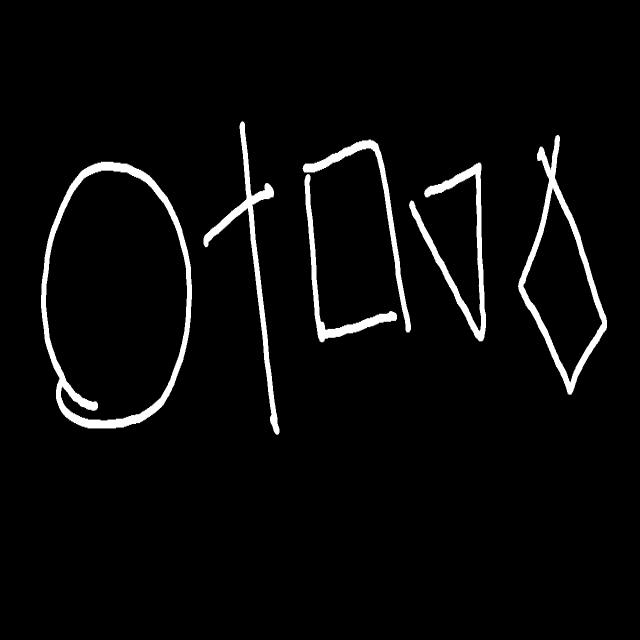Circle: (41, 161, 192, 428)
Cross: (204, 122, 278, 434)
Diamond: (518, 136, 606, 395)
Square: (303, 140, 411, 340)
Triangle: (409, 164, 486, 340)
